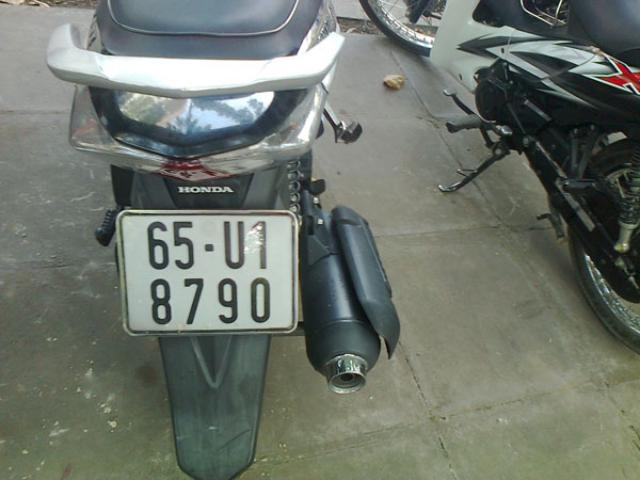plate: (121, 215, 292, 331)
